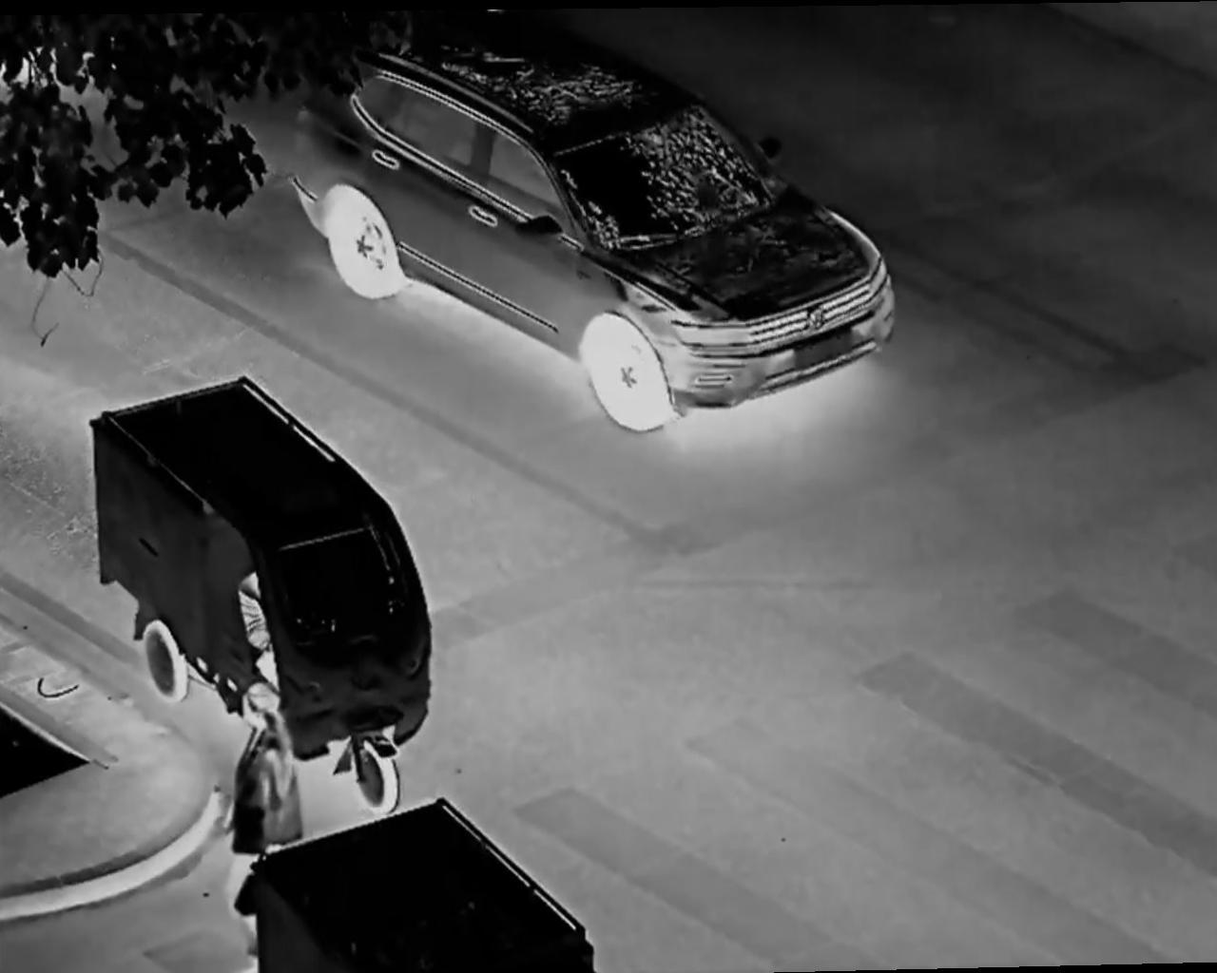person: (231, 686, 321, 911)
